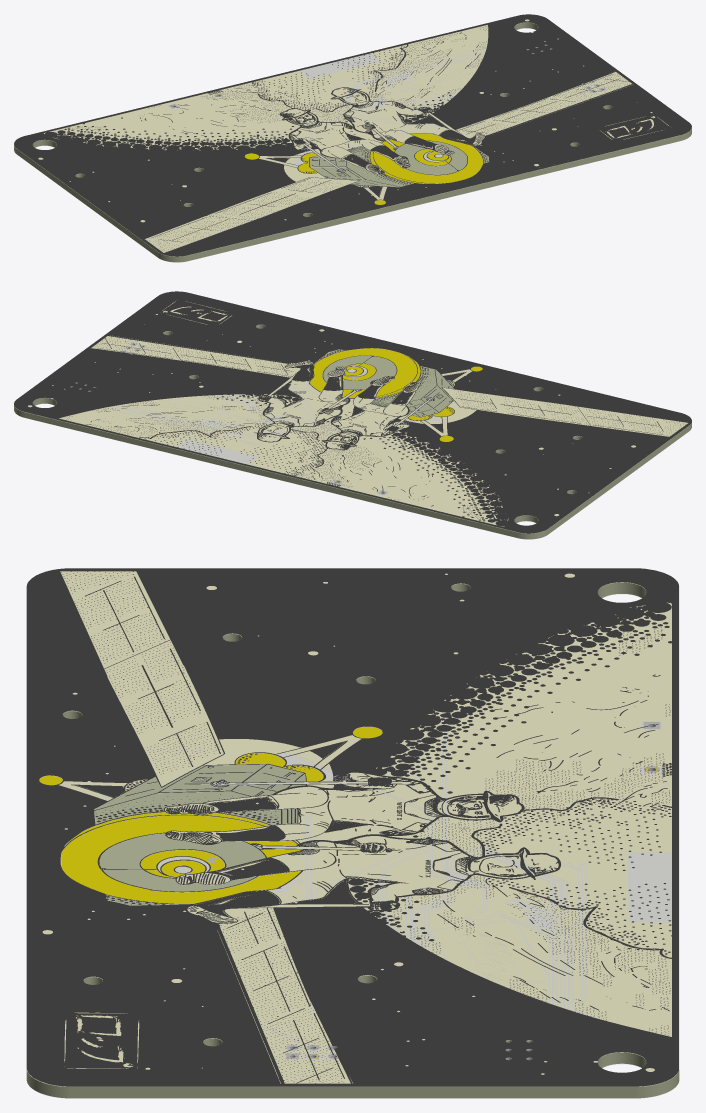
The model's file is aerospace-village-badge-2023.glb.
3 renders of one model, top to bottom at view 1: azimuth 30°, elevation 25°; view 2: azimuth 150°, elevation 25°; view 3: azimuth 270°, elevation 25°, orthographic. The views are drawn at different scales.
Parts seen in each view (by area): view 1: =>[0:1:1:5], =>[0:1:1:7], =>[0:1:1:2], =>[0:1:1:9]; view 2: =>[0:1:1:5], =>[0:1:1:7], =>[0:1:1:2], =>[0:1:1:9]; view 3: =>[0:1:1:5], =>[0:1:1:7], =>[0:1:1:2], =>[0:1:1:9].
Boxes of the visible parts, x1,y1,x2,y2 form: =>[0:1:1:5]: (14, 14, 691, 256); =>[0:1:1:7]: (16, 19, 687, 262); =>[0:1:1:2]: (39, 20, 654, 252); =>[0:1:1:9]: (14, 22, 691, 262); =>[0:1:1:5]: (14, 291, 691, 533); =>[0:1:1:7]: (16, 301, 689, 539); =>[0:1:1:2]: (28, 307, 686, 524); =>[0:1:1:9]: (14, 324, 691, 539); =>[0:1:1:5]: (26, 568, 678, 1086); =>[0:1:1:7]: (27, 571, 679, 1098); =>[0:1:1:2]: (39, 572, 671, 1082); =>[0:1:1:9]: (26, 582, 679, 1098).
Size of the model in its own units: 0.15 by 0.00166 by 0.0798.
Materials: 4 (4 with a texture image).
